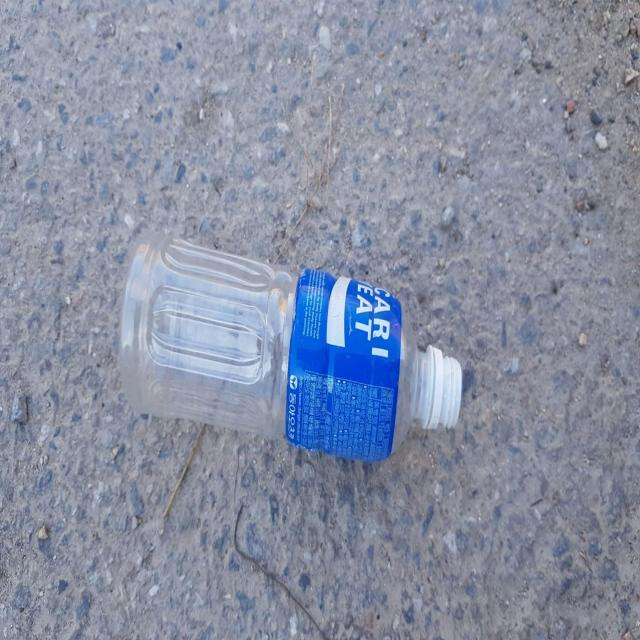plastic: (119, 232, 463, 461)
